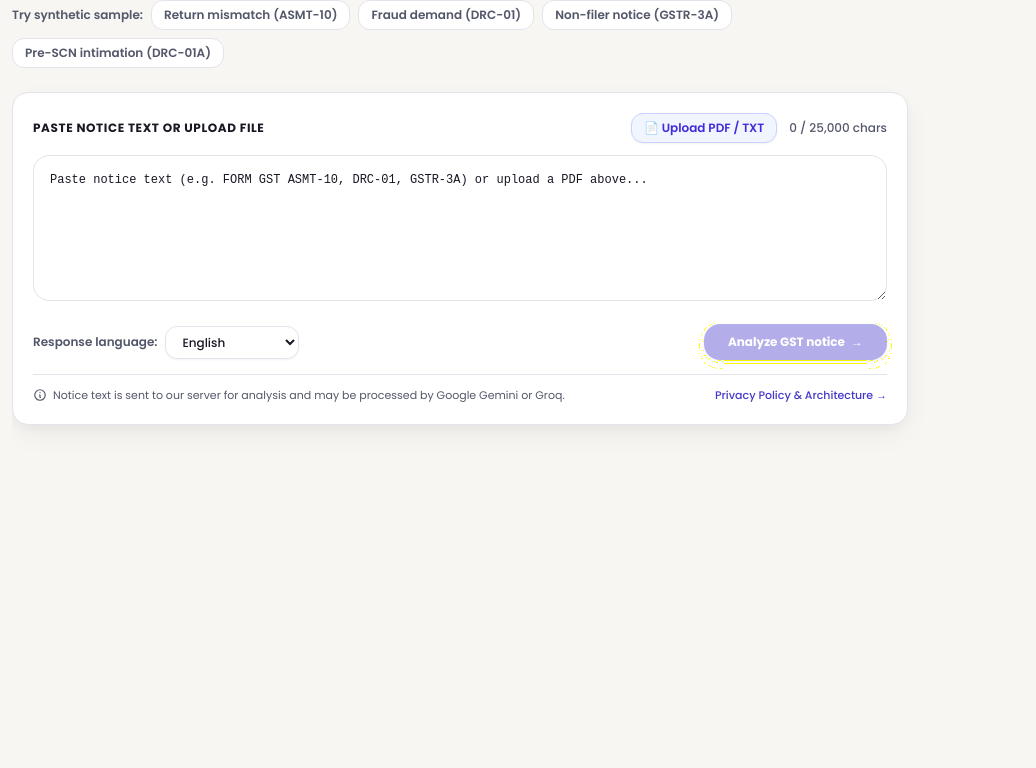
it: NoticeAnalyzer Component › renders explicit deadline date badge correctly when deadline is explicitly stated
The width and height of the screenshot is (1036, 768).
Click the button with test id "sample-asmt10-btn" at (251, 15), box [151,0,350,30]
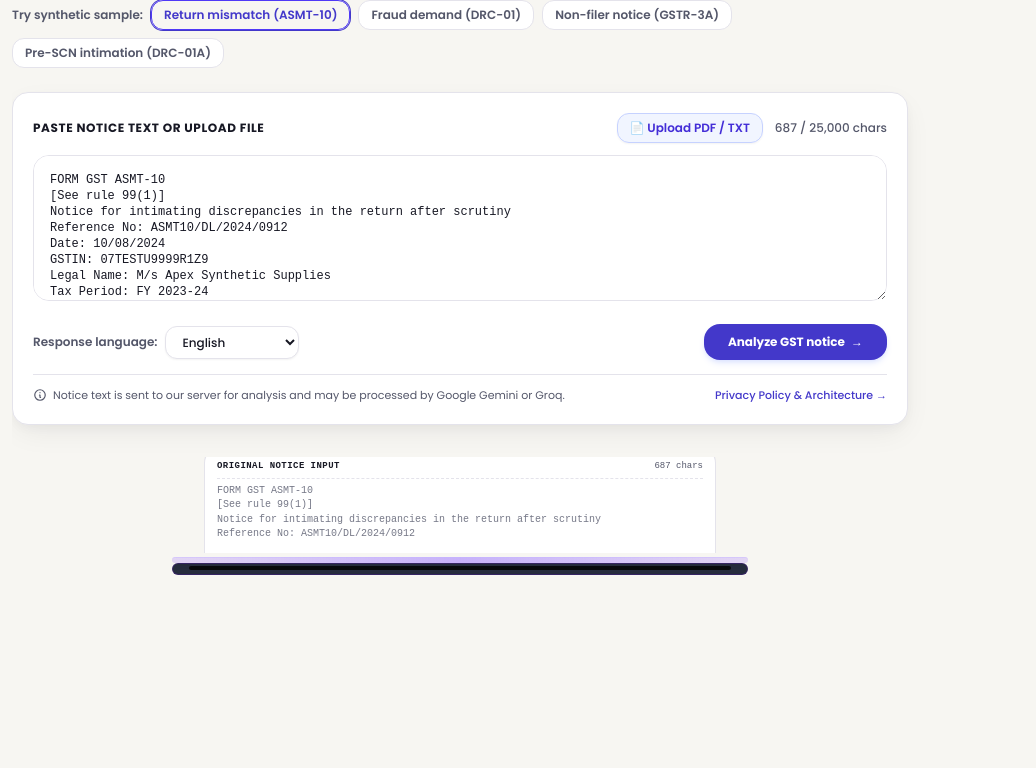
Click the button with test id "analyze-notice-btn" at (795, 342), box [704,324,887,360]
(page scrolled)
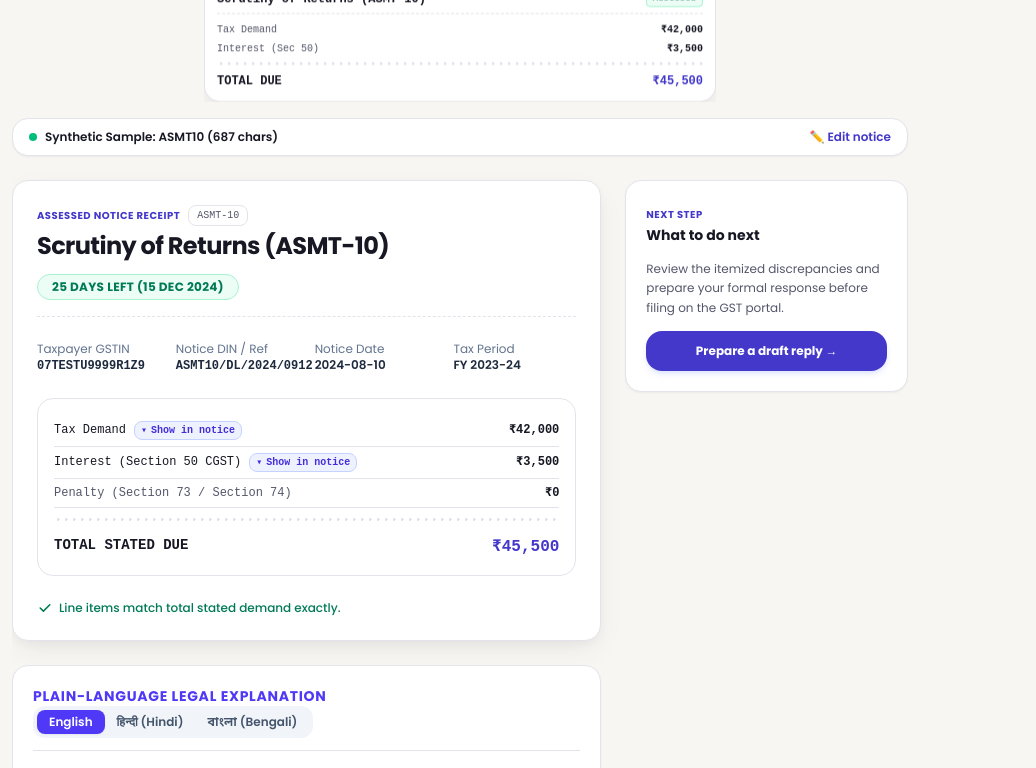
Check: the text "25 Days Left (15 Dec 2024)" is shown, box [37,274,239,300]
Check: the text with test id "deadline-badge" shows "15 Dec 2024", box [52,278,224,294]
Check: the text with test id "deadline-badge" shows "25 Days Left", box [52,278,224,294]
